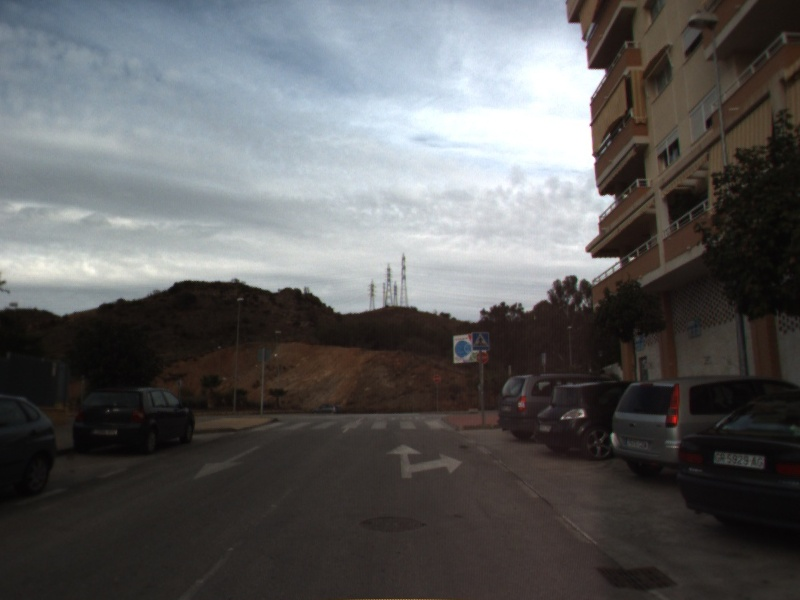STRAIGHT_RIGHT: (384, 442, 465, 480)
